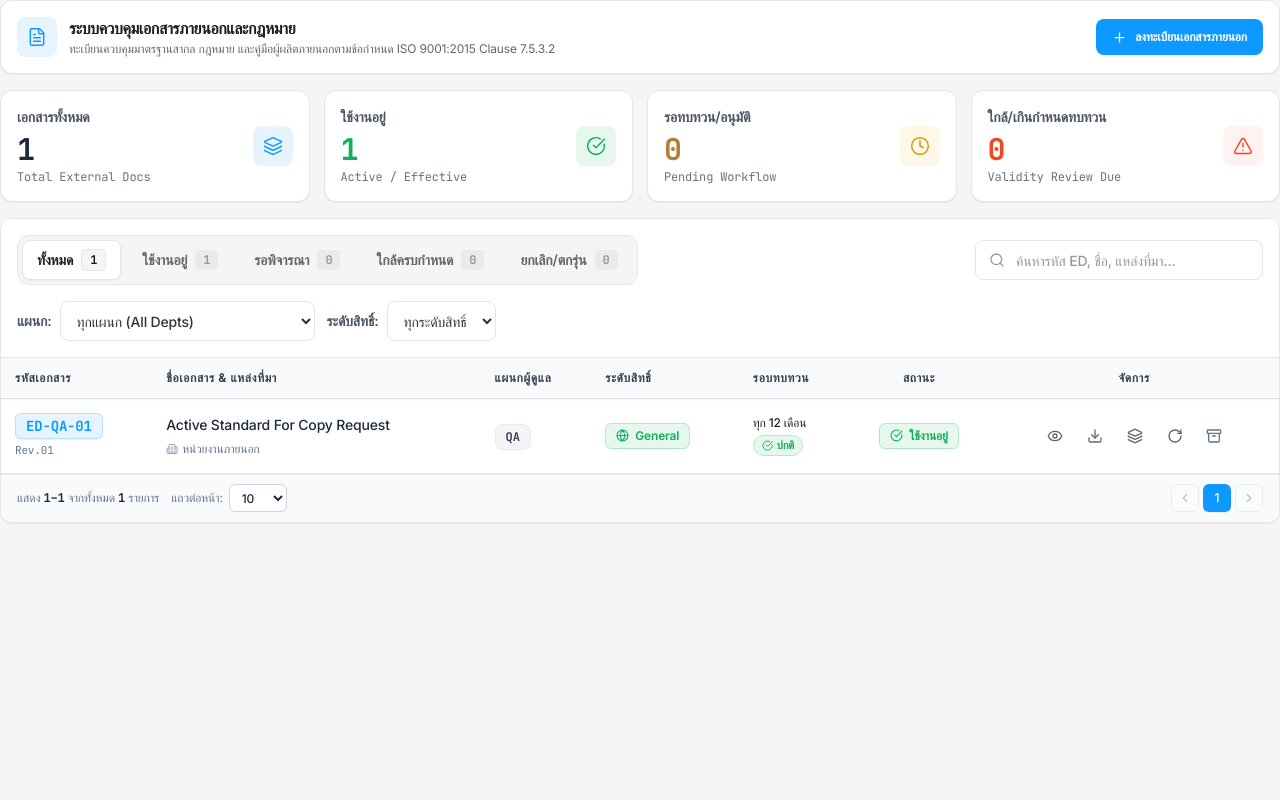
Scenario: External Documents Management Module (ED-Control) Tests › 6. Hybrid Digital-Physical External Document (ED) Controlled Lifecycle › renders Physical Copy button in ExternalDocsList for active documents
# Click button opens RequestAdditionalCopiesModal
Click the button titled "ขอสำเนาควบคุมหน้างาน (Request Physical Copy)". click: (1135, 436)
box: [1117,418,1153,454]
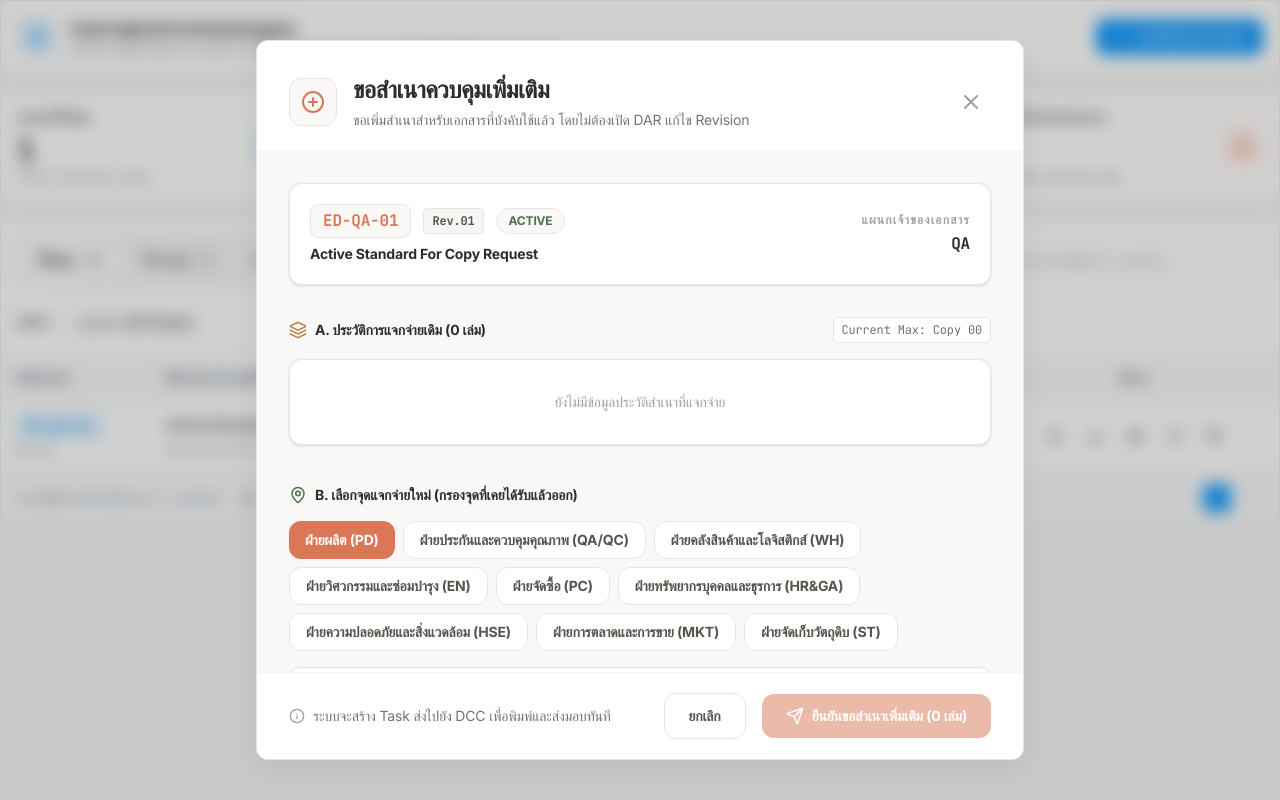
expect the heading "ขอสำเนาควบคุมเพิ่มเติม" is shown: met, box [353,75,549,104]
